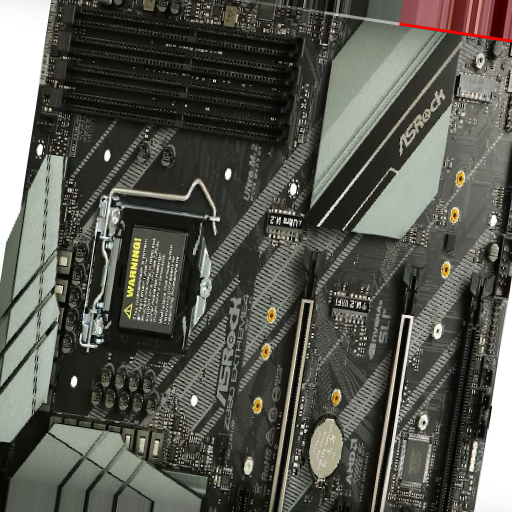CPU: (91, 205, 215, 340)
GPU: (267, 246, 329, 510), (367, 263, 427, 512), (436, 271, 496, 512)
MOTHERBOARD: (1, 2, 509, 510)
RAM: (47, 2, 310, 153)
SSD: (329, 286, 372, 330), (264, 206, 306, 247), (457, 71, 498, 107)
